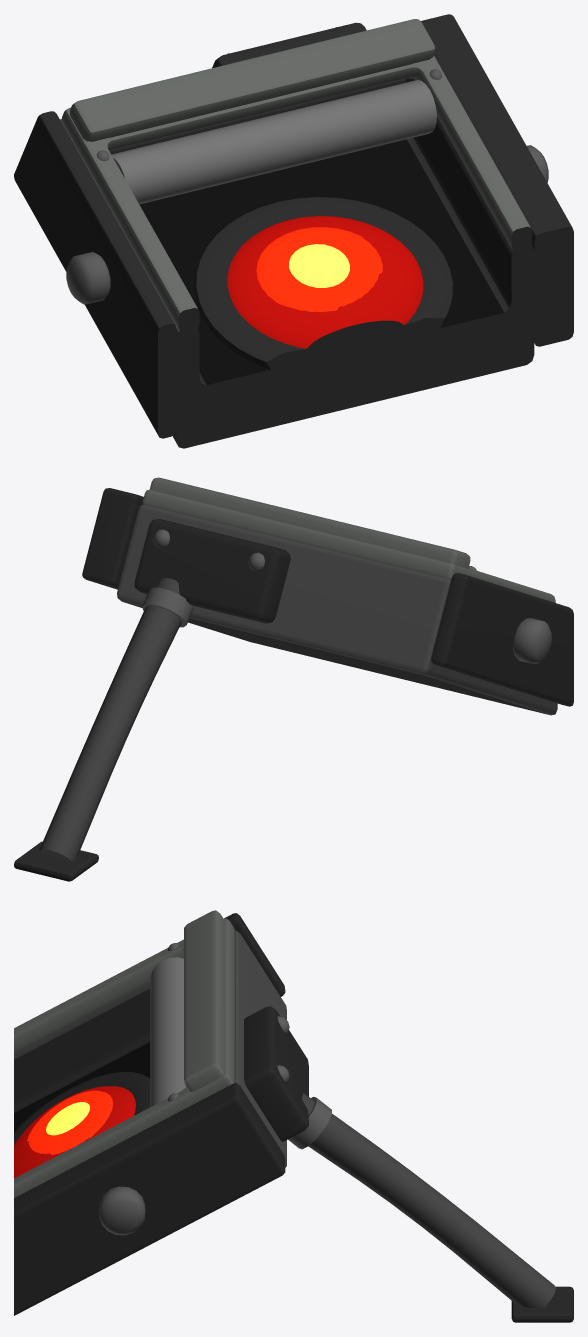
Rendered from cliff_bunker_top_161.glb.
3 renders of one model, top to bottom at view 1: azimuth 30°, elevation 25°; view 2: azimuth 150°, elevation 25°; view 3: azimuth 270°, elevation 25°, orthographic. The views are drawn at different scales.
Parts seen in each view (by area): view 1: box.001, bracket0.001, roll.001, brow.001, frame.001, eye_socket.001, bracket1.001, eye.001, eye_mid.001, eye_hot.001, knob0.001, mount.001; view 2: box.001, bracket0.001, strut.001, mount.001, frame.001, brow.001, bracket1.001, strut_foot.001, knob0.001, strut_collar.001; view 3: bracket1.001, box.001, strut.001, frame.001, brow.001, mount.001, roll.001, eye_mid.001, eye.001, eye_socket.001, knob1.001, strut_foot.001 (+3 smaller).
Boxes of the visible parts, x1,y1,x2,y2 form: box.001: (60,78,534,448); bracket0.001: (14,111,176,438); roll.001: (111,80,436,204); brow.001: (70,19,435,141); frame.001: (62,55,532,332); eye_socket.001: (194,197,452,371); bracket1.001: (421,14,573,346); eye.001: (227,216,423,358); eye_mid.001: (256,227,382,312); eye_hot.001: (289,244,349,287); knob0.001: (66,252,110,304); mount.001: (212,22,366,68); box.001: (117,504,557,715); bracket0.001: (431,573,573,706); strut.001: (39,578,181,861); mount.001: (134,519,290,623); frame.001: (142,489,555,602); brow.001: (149,477,470,568); bracket1.001: (82,488,143,589); strut_foot.001: (14,841,98,881); knob0.001: (512,618,551,663); strut_collar.001: (142,587,193,627); bracket1.001: (14,1083,285,1315); box.001: (14,930,286,1167); strut.001: (302,1092,555,1308); frame.001: (14,918,234,1197); brow.001: (184,910,224,1091); mount.001: (244,1006,308,1141); roll.001: (150,957,185,1106); eye_mid.001: (27,1090,113,1154); eye.001: (14,1086,135,1178); eye_socket.001: (14,1072,150,1144); knob1.001: (99,1186,145,1235); strut_foot.001: (511,1286,573,1322).
Size of the model in its own units: 22.5 by 13.62 by 25.2.
